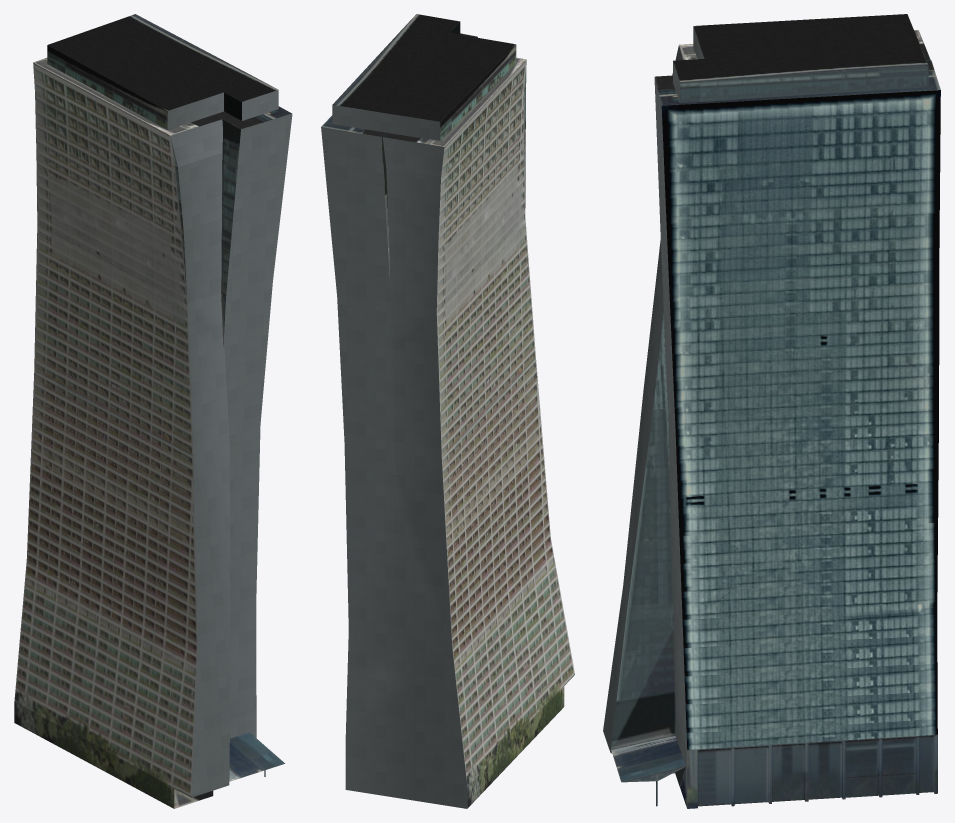
3 views of the same model, side by side, from view 1: azimuth 30°, elevation 25°; view 2: azimuth 150°, elevation 25°; view 3: azimuth 270°, elevation 25° (orthographic). The views are drawn at different scales.
Visible parts, largest first — view 1: 5_0.glb; view 2: 5_0.glb; view 3: 5_0.glb.
Part boxes in pixels (bbox=[...]): 5_0.glb: bbox=[14, 14, 292, 808]; 5_0.glb: bbox=[321, 14, 574, 808]; 5_0.glb: bbox=[603, 14, 940, 808].
Bounding box in the file's own units: 46.41 × 183 × 76.19.
3 materials, 3 textured.
